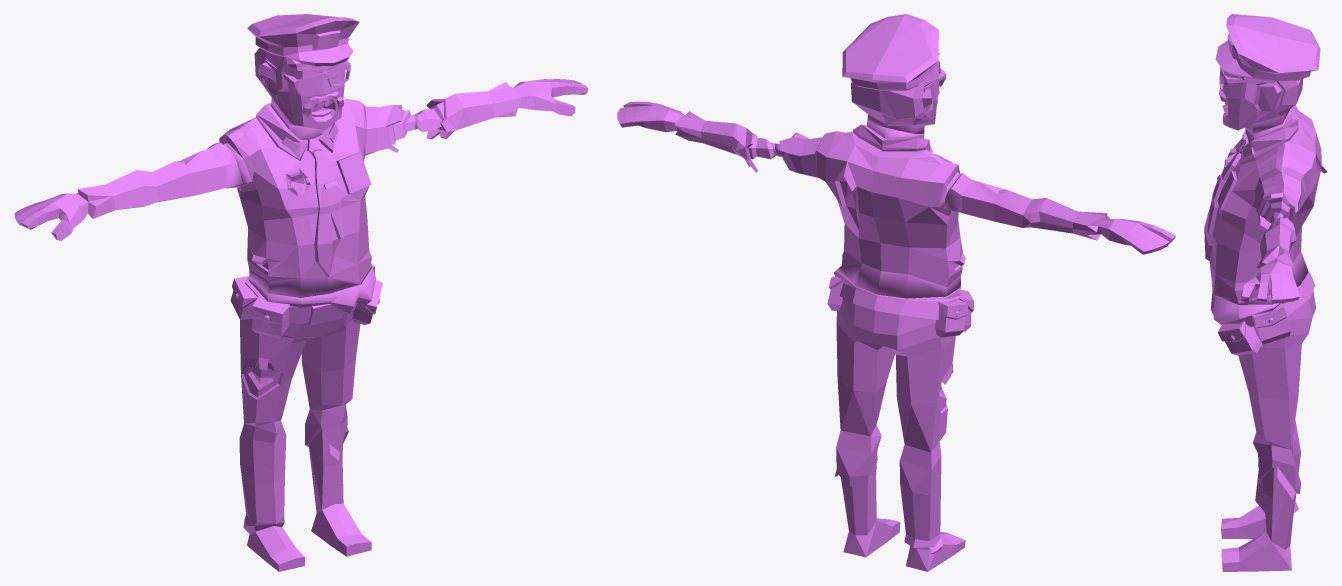
The model's file is FinalZombiePoliceMale.fbx.
3 renders of one model, left to right at view 1: azimuth 30°, elevation 25°; view 2: azimuth 150°, elevation 25°; view 3: azimuth 270°, elevation 25°, orthographic. The views are drawn at different scales.
Visible parts, largest first — view 1: Legs, Body, Head, RightArm, LeftArm; view 2: Legs, Body, Head, RightArm, LeftArm; view 3: Legs, Body, Head, LeftArm.
Boxes of the visible parts, x1,y1,x2,y2 form: Legs: (230,264,382,571); Body: (219,99,417,297); Head: (247,14,359,130); RightArm: (14,142,242,240); LeftArm: (415,79,588,139); Legs: (827,271,973,571); Body: (774,122,965,298); Head: (842,14,946,133); RightArm: (943,173,1175,254); LeftArm: (617,101,777,172); Legs: (1210,272,1316,571); Body: (1204,107,1327,304); Head: (1215,14,1320,133); LeftArm: (1240,216,1299,303).
Size of the model in its own units: 205 by 186 by 39.3.
